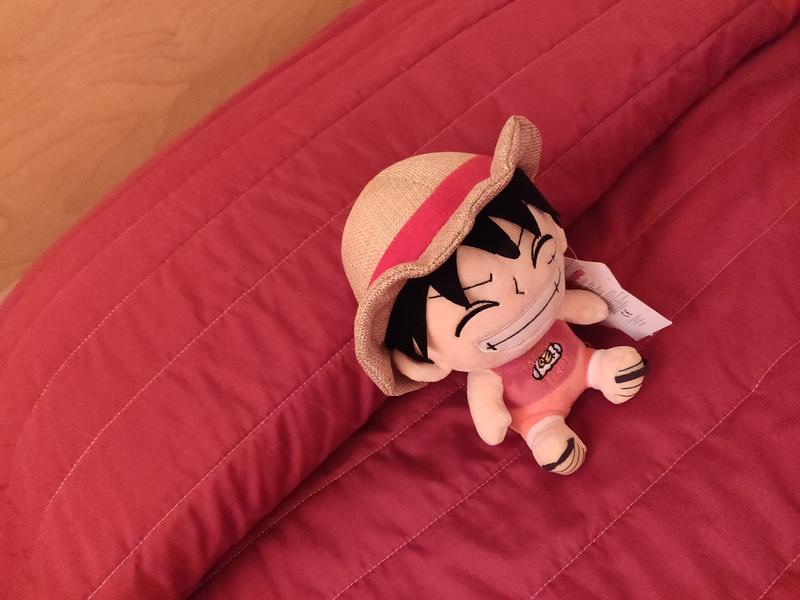rufy: (338, 102, 677, 484)
